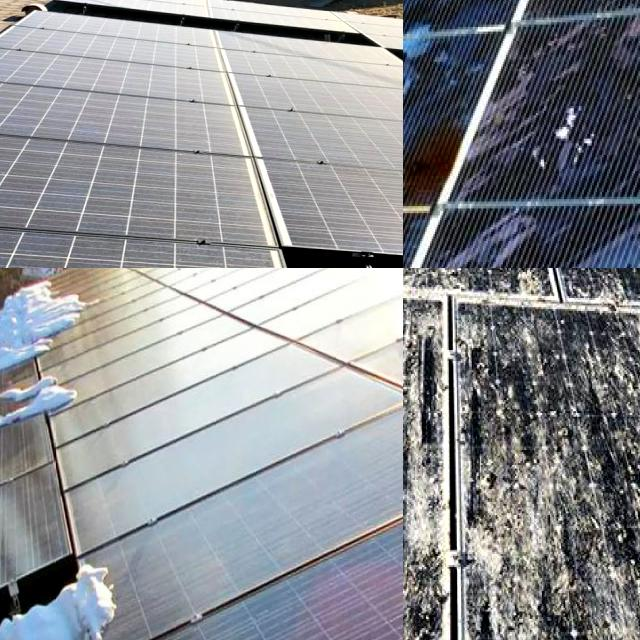bird: (484, 433, 566, 602), (403, 308, 462, 479), (582, 428, 640, 583), (403, 532, 463, 635)
dust: (59, 156, 233, 235), (0, 250, 273, 268), (0, 140, 49, 217)
panel: (30, 276, 96, 366), (82, 541, 122, 640), (0, 383, 71, 435), (0, 434, 45, 491), (0, 497, 42, 555), (0, 301, 23, 393), (0, 581, 34, 628)
shadow: (403, 111, 474, 228)
